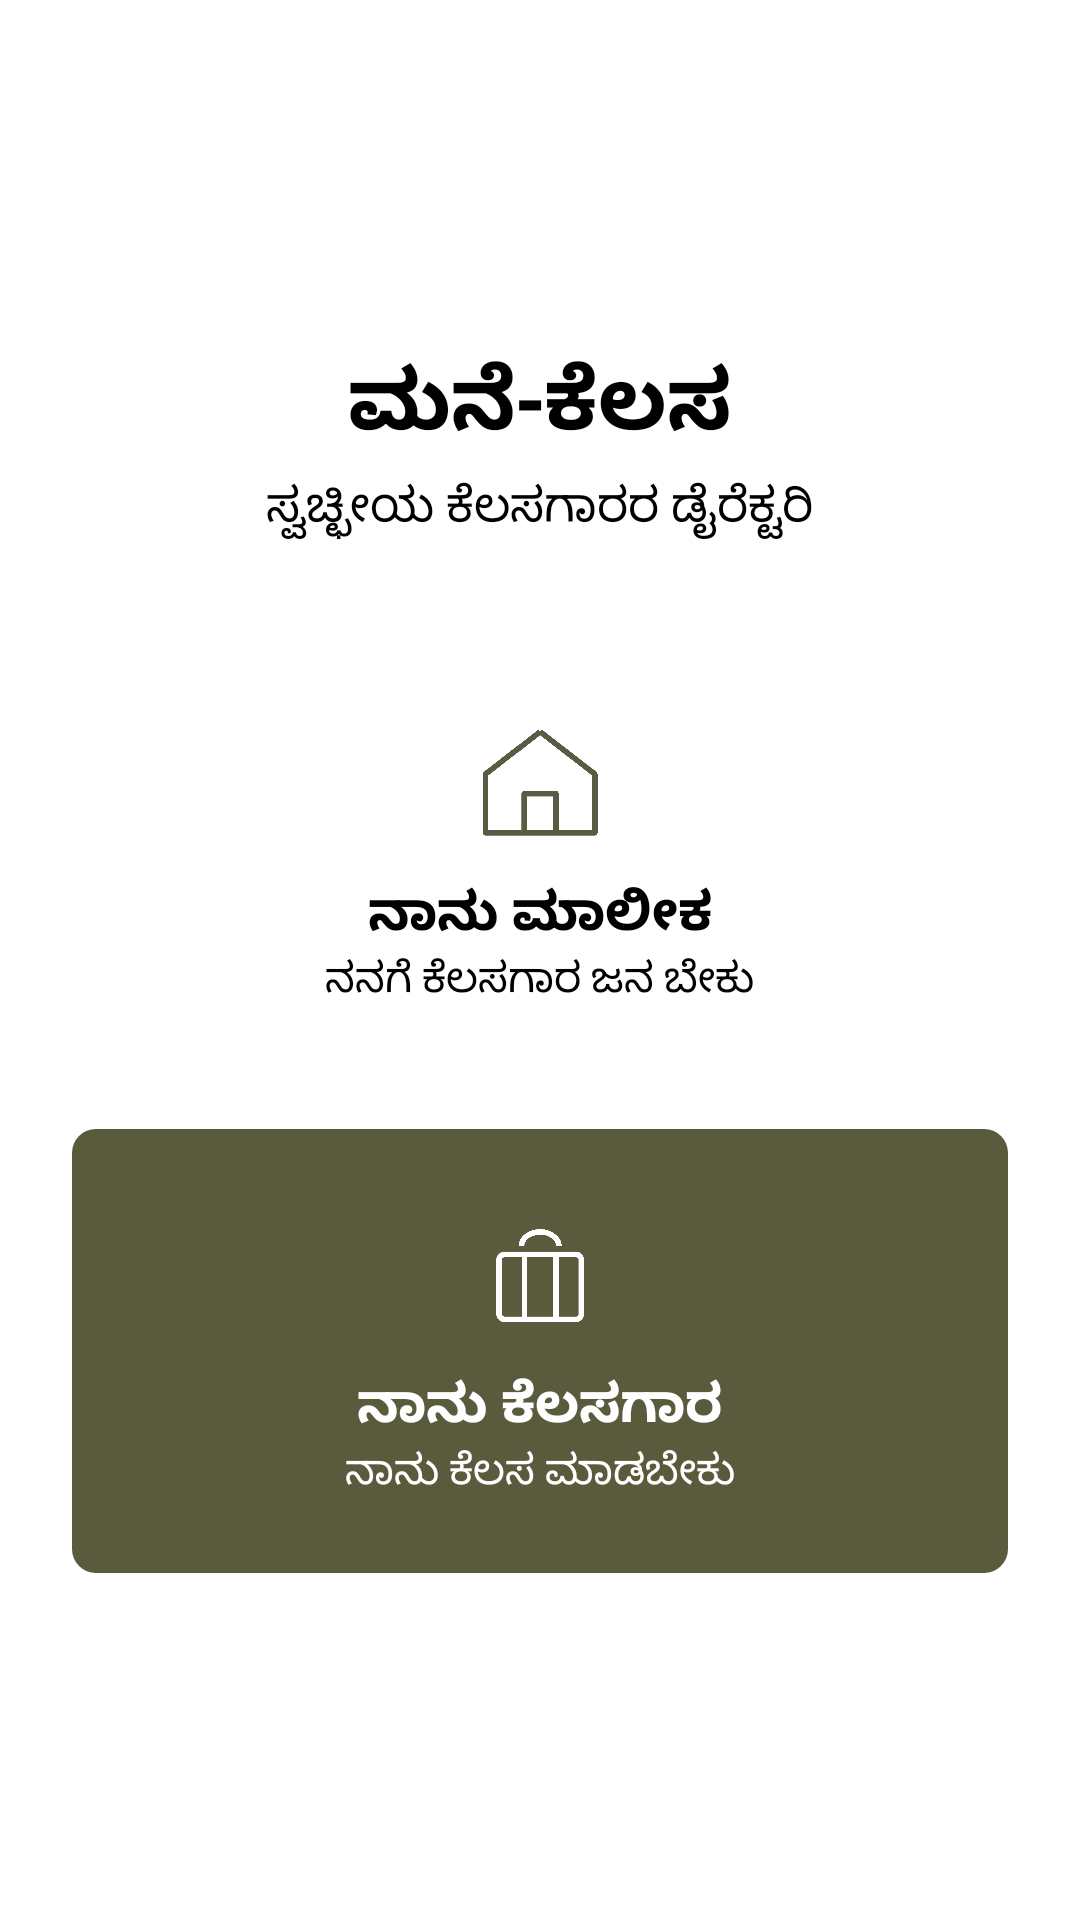

Named icons in this screenshot (1080×1920) and their centers, point (x, y):
ಕೆಲಸಗಾರರ ಐಕಾನ್: point (540, 1275)
ಮಾಲೀಕರ ಐಕಾನ್: point (540, 782)
